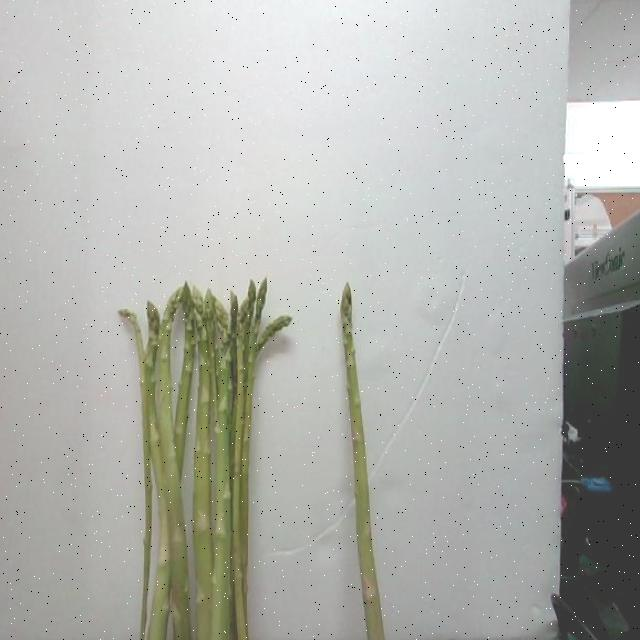aspargus: (341, 286, 389, 640), (160, 283, 193, 640)
